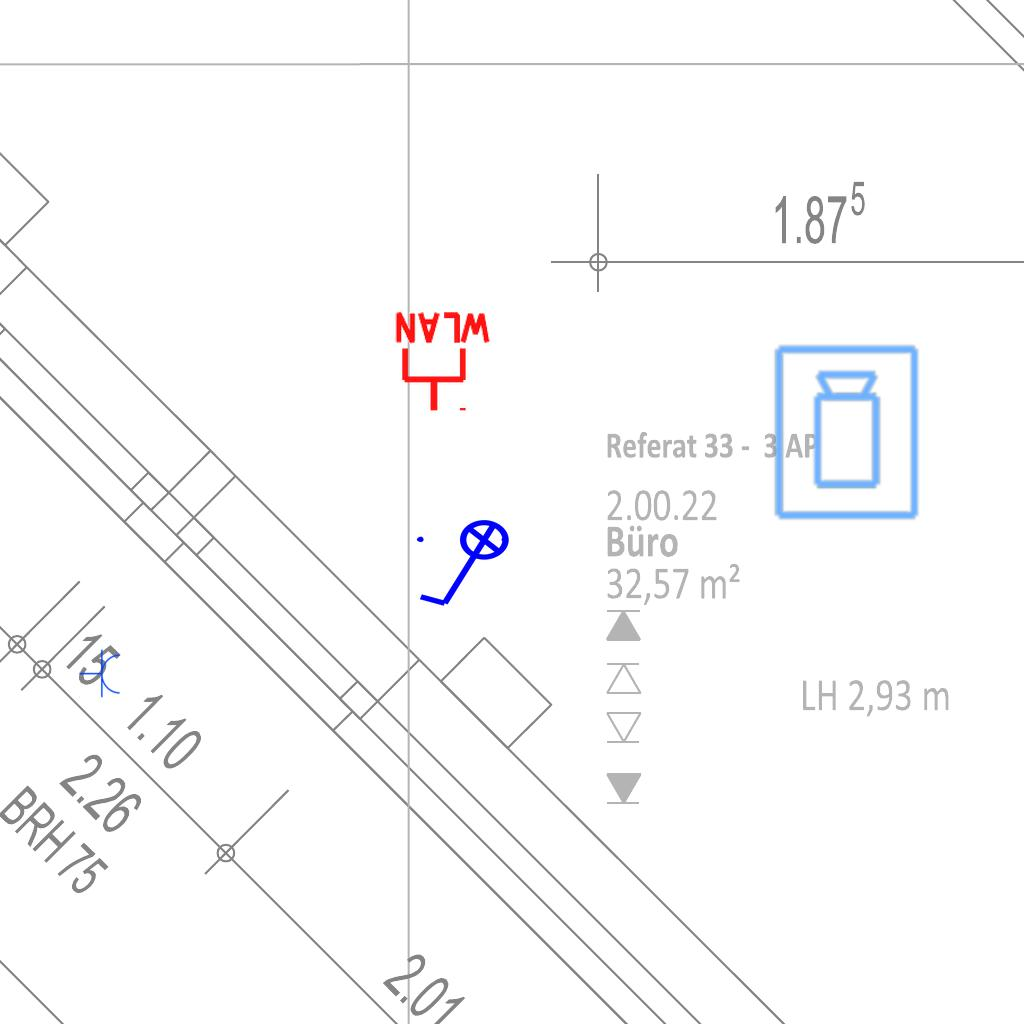Ausschalter_beleuchtet: (411, 518, 523, 614)
KFO_Kamera_mit_Festobjektiv: (771, 342, 925, 524)
Schukosteckdose_einfach: (79, 649, 122, 699)
WLAN: (391, 310, 495, 415)
